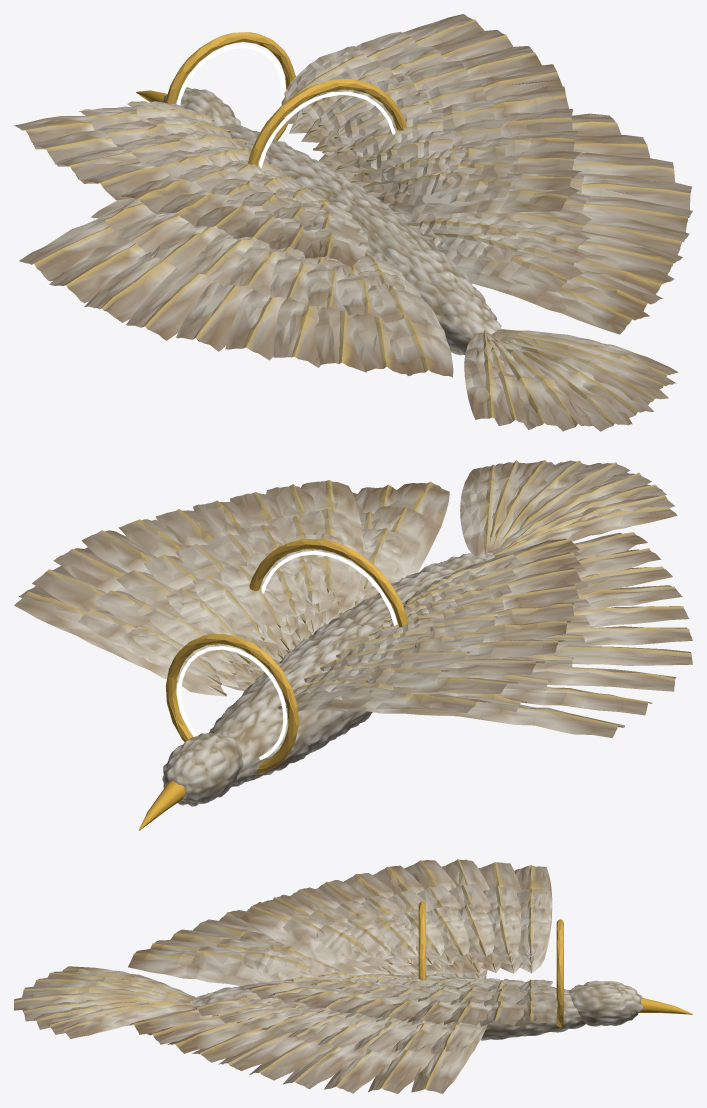
File: seraphine_large.glb
3 views of the same model, one above another, from view 1: azimuth 30°, elevation 25°; view 2: azimuth 150°, elevation 25°; view 3: azimuth 270°, elevation 25° (orthographic). The views are drawn at different scales.
Visible parts, largest first — view 1: seraphine_large.001; view 2: seraphine_large.001; view 3: seraphine_large.001.
Part boxes in pixels (x1=…): seraphine_large.001: x1=14, y1=14, x2=692, y2=431; seraphine_large.001: x1=14, y1=460, x2=692, y2=830; seraphine_large.001: x1=14, y1=859, x2=692, y2=1093.
Bounding box in the file's own units: 7.2 × 2.16 × 10.
